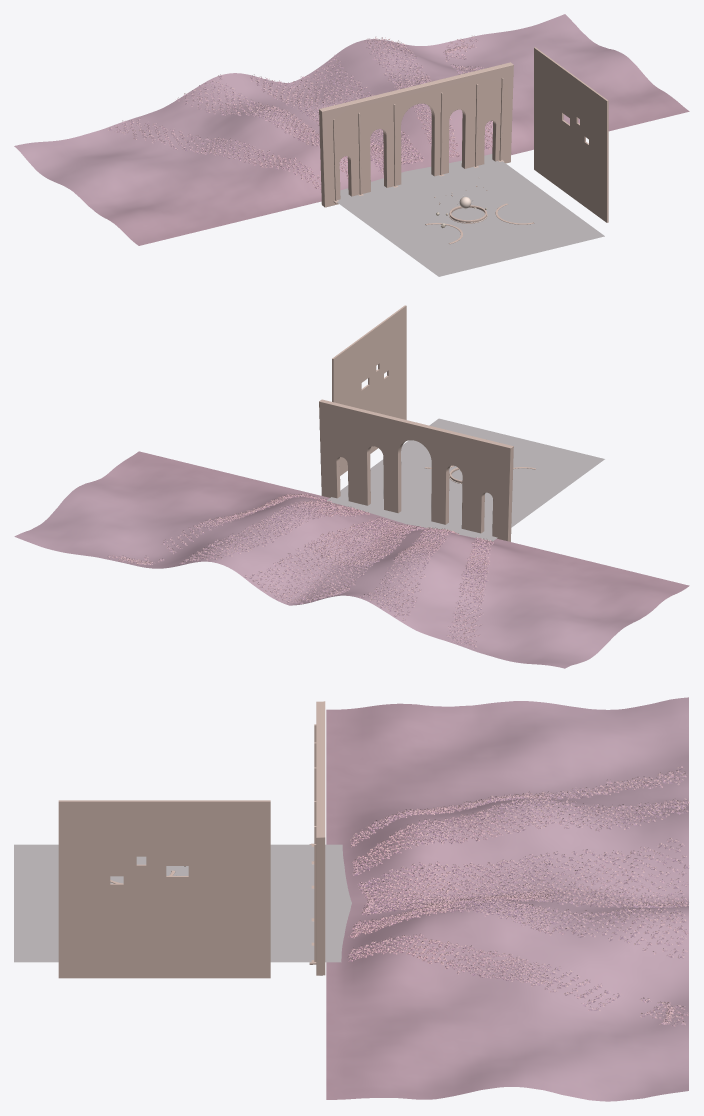
Rendered from environment.glb.
3 renders of one model, top to bottom at view 1: azimuth 30°, elevation 25°; view 2: azimuth 150°, elevation 25°; view 3: azimuth 270°, elevation 25°, orthographic. The views are drawn at different scales.
Parts seen in each view (by area): view 1: Landscape | rolling rose garden ridges, Water | submerged limestone floor, Atrium | monolithic blush limestone, Right clerestory | three carved light apertures, Landscape | blush five petal blossoms, Landscape | layered lilac flowering canopies; view 2: Landscape | rolling rose garden ridges, Atrium | monolithic blush limestone, Water | submerged limestone floor, Landscape | blush five petal blossoms, Landscape | layered lilac flowering canopies, Right clerestory | three carved light apertures; view 3: Landscape | rolling rose garden ridges, Right clerestory | three carved light apertures, Landscape | blush five petal blossoms, Landscape | layered lilac flowering canopies, Water | submerged limestone floor, Atrium | monolithic blush limestone.
Boxes of the visible parts, x1=… form: Landscape | rolling rose garden ridges: x1=14, y1=14, x2=689, y2=245; Water | submerged limestone floor: x1=337, y1=154, x2=604, y2=276; Atrium | monolithic blush limestone: x1=319, y1=62, x2=513, y2=207; Right clerestory | three carved light apertures: x1=534, y1=47, x2=608, y2=222; Landscape | blush five petal blossoms: x1=108, y1=35, x2=492, y2=188; Landscape | layered lilac flowering canopies: x1=108, y1=36, x2=492, y2=189; Landscape | rolling rose garden ridges: x1=14, y1=451, x2=689, y2=668; Atrium | monolithic blush limestone: x1=319, y1=399, x2=513, y2=541; Water | submerged limestone floor: x1=327, y1=418, x2=604, y2=541; Landscape | blush five petal blossoms: x1=109, y1=494, x2=493, y2=648; Landscape | layered lilac flowering canopies: x1=108, y1=495, x2=492, y2=648; Right clerestory | three carved light apertures: x1=332, y1=305, x2=406, y2=475; Landscape | rolling rose garden ridges: x1=326, y1=697, x2=688, y2=1101; Right clerestory | three carved light apertures: x1=58, y1=800, x2=270, y2=978; Landscape | blush five petal blossoms: x1=347, y1=766, x2=689, y2=1026; Landscape | layered lilac flowering canopies: x1=348, y1=768, x2=688, y2=1027; Water | submerged limestone floor: x1=14, y1=844, x2=351, y2=962; Atrium | monolithic blush limestone: x1=316, y1=701, x2=325, y2=975.
Bounding box in the file's own units: 166 × 35.73 × 121.
